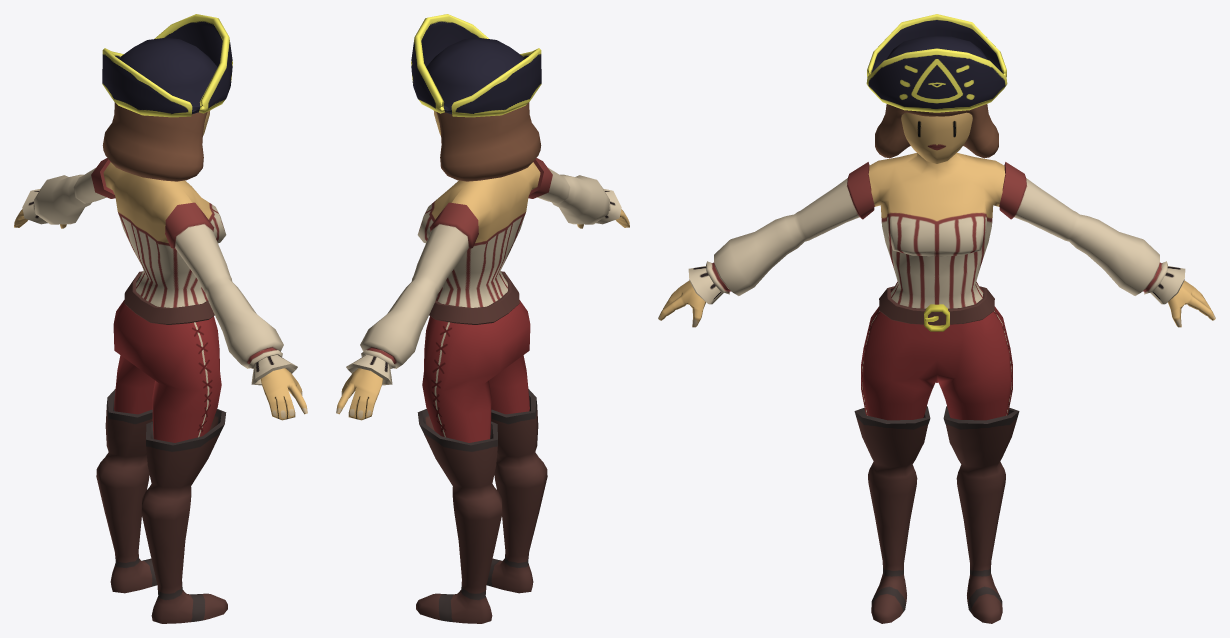
Rendered from scene_oEPrI1bfF2.glb.
3 views of the same model, side by side, from view 1: azimuth 30°, elevation 25°; view 2: azimuth 150°, elevation 25°; view 3: azimuth 270°, elevation 25° (orthographic). The views are drawn at different scales.
Parts seen in each view (by area): view 1: mesh_char_110; view 2: mesh_char_110; view 3: mesh_char_110.
Part boxes in pixels (x1=…): mesh_char_110: x1=14, y1=14, x2=307, y2=623; mesh_char_110: x1=336, y1=14, x2=629, y2=623; mesh_char_110: x1=658, y1=14, x2=1215, y2=623.
Size of the model in its own units: 0.9069 by 4.37 by 3.79.
Materials: 1 (1 with a texture image).
